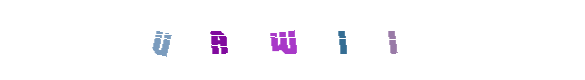1: (253, 0, 333, 80), (303, 0, 383, 80)
A: (207, 0, 287, 80)
U: (179, 0, 259, 80)
W: (237, 0, 317, 80)
